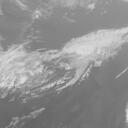cyclone: (37, 47, 81, 90)
